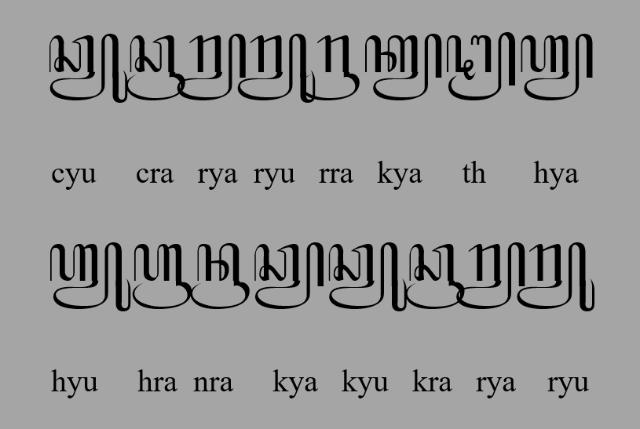-th: (446, 31, 516, 101)
cr: (125, 34, 185, 101)
cy: (253, 242, 324, 310)
cyu: (48, 34, 128, 104), (328, 242, 407, 312)
hr: (132, 244, 192, 310)
hy: (520, 33, 594, 101)
hyu: (48, 242, 132, 312)
kr: (405, 244, 465, 310)
ky: (365, 33, 443, 101)
nr: (190, 242, 250, 310)
rr: (300, 34, 360, 101)
ry: (177, 34, 247, 102), (457, 243, 525, 311)
ryu: (237, 32, 316, 104), (516, 242, 596, 312)
